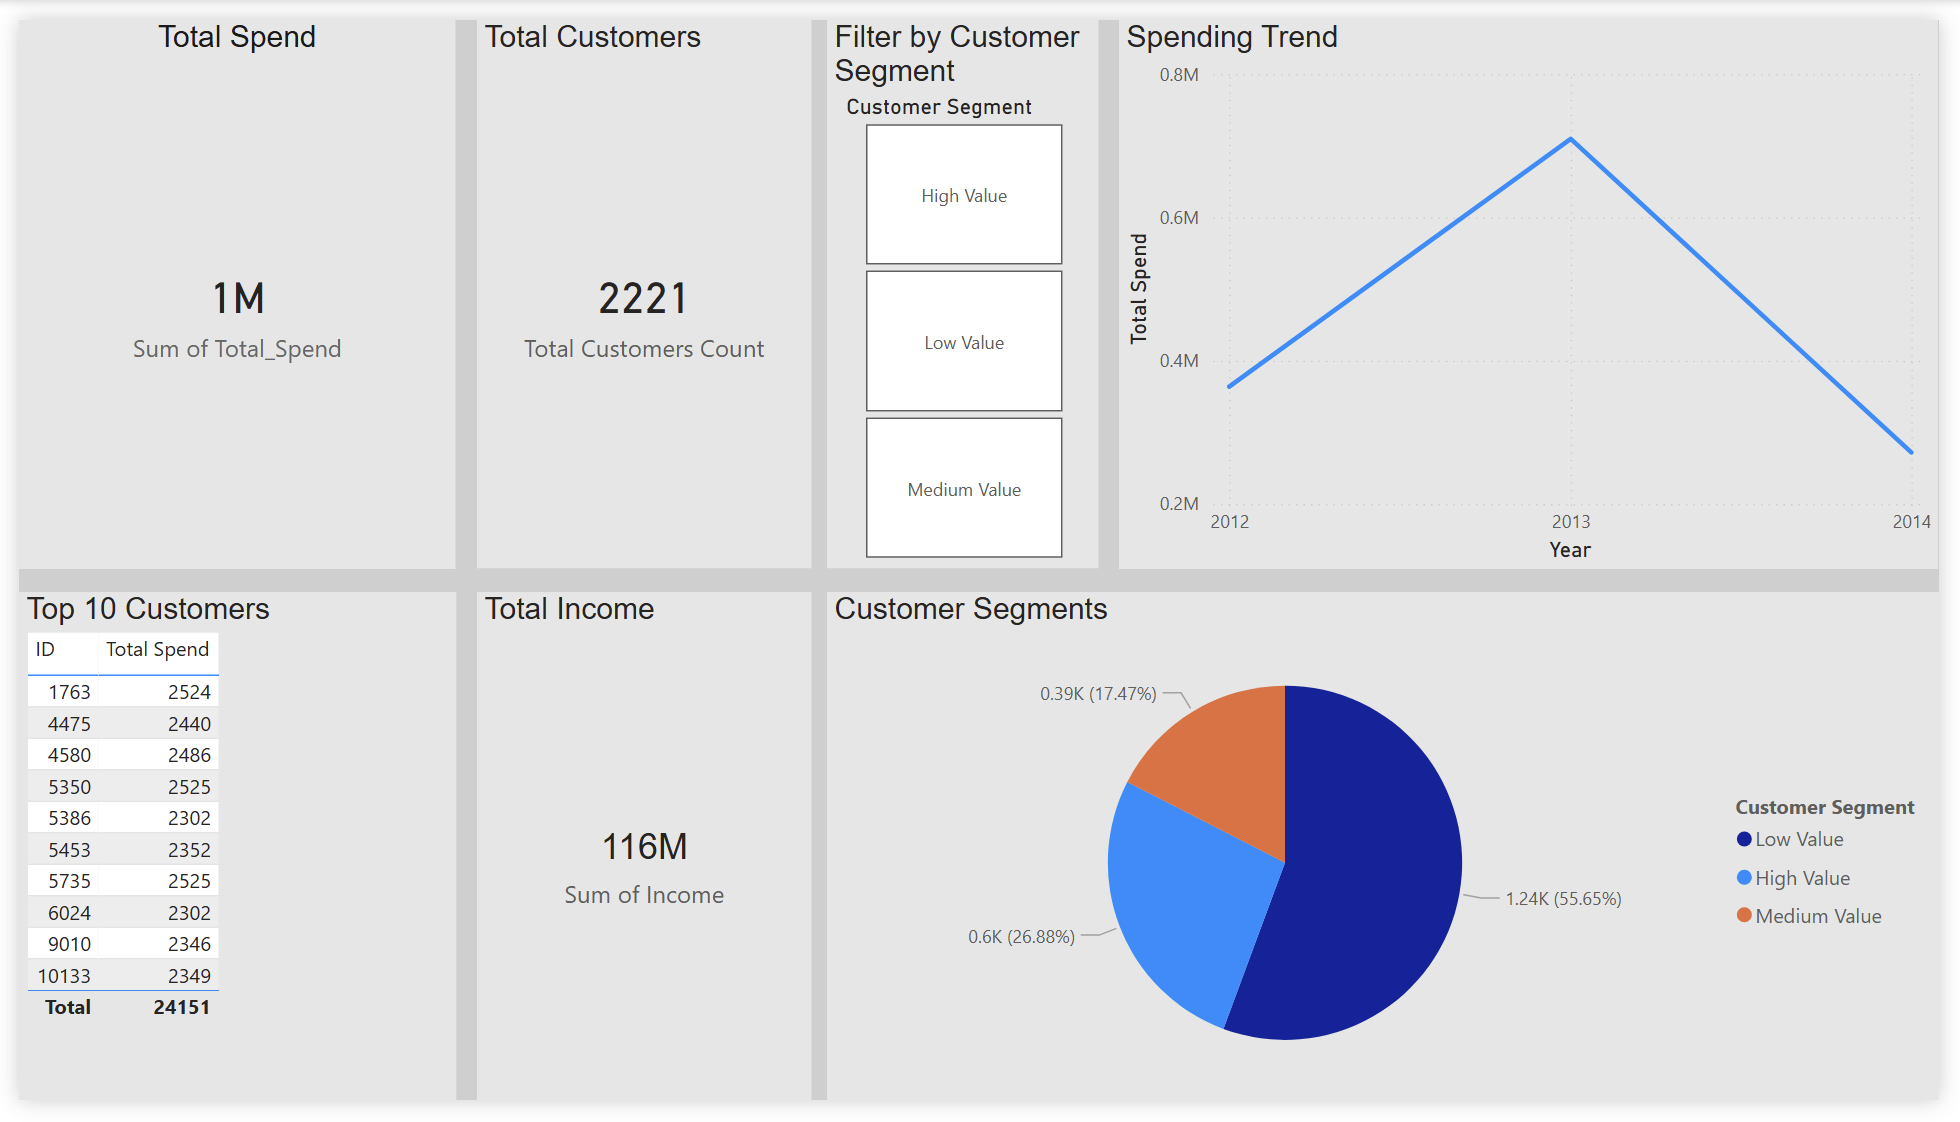

Layout of this report page (visuals, bound fields, positions):
{"tool":"powerbi","page":{"name":"Page 1","canvas":[1280,720],"ordinal":0},"visuals":[{"type":"card","title":"Total Spend","fields":{"Values":["Sum(customers_cleaned.Total_Spend)"]},"box":[0,0,291.1,366.1],"z":0},{"type":"tableEx","title":"Top 10 Customers","fields":{"Values":["customers_cleaned.ID","customers_cleaned.Total Spend"]},"box":[0,381,291.4,341],"z":1000},{"type":"lineChart","title":"Spending Trend ","fields":{"Category":["customers_cleaned.Dt_Customer.Variation.Date Hierarchy.Year","customers_cleaned.Dt_Customer.Variation.Date Hierarchy.Month"],"Y":["customers_cleaned.Total Spend"]},"box":[733.8,0,546.2,366.1],"z":2000},{"type":"pieChart","title":"Customer Segments","fields":{"Category":["customers_cleaned.Customer Segment"],"Y":["CountNonNull(customers_cleaned.ID)"]},"box":[539,381,746.7,339],"z":3000},{"type":"card","title":"Total Customers","fields":{"Values":["customers_cleaned.Total Customers Count"]},"box":[304.8,0,222.9,365.7],"z":4000},{"type":"slicer","title":"Filter by Customer Segment","fields":{"Values":["customers_cleaned.Customer Segment"]},"box":[539,0,181,365.7],"z":5000},{"type":"card","title":"Total Income","fields":{"Values":["Sum(customers_cleaned.Income)"]},"box":[305,381,223,339],"z":5001}]}

Visuals, with their boxes in screenshot pixels (x1, y1, x2, y2), scaled from the page's 1280x720 canvas onto the 1960x1122 screenshot:
"Total Spend" card: x1=0, y1=0, x2=446, y2=571
"Top 10 Customers" tableEx: x1=0, y1=594, x2=446, y2=1121
"Spending Trend " lineChart: x1=1124, y1=0, x2=1959, y2=571
"Customer Segments" pieChart: x1=825, y1=594, x2=1959, y2=1121
"Total Customers" card: x1=467, y1=0, x2=808, y2=570
"Filter by Customer Segment" slicer: x1=825, y1=0, x2=1102, y2=570
"Total Income" card: x1=467, y1=594, x2=808, y2=1121
